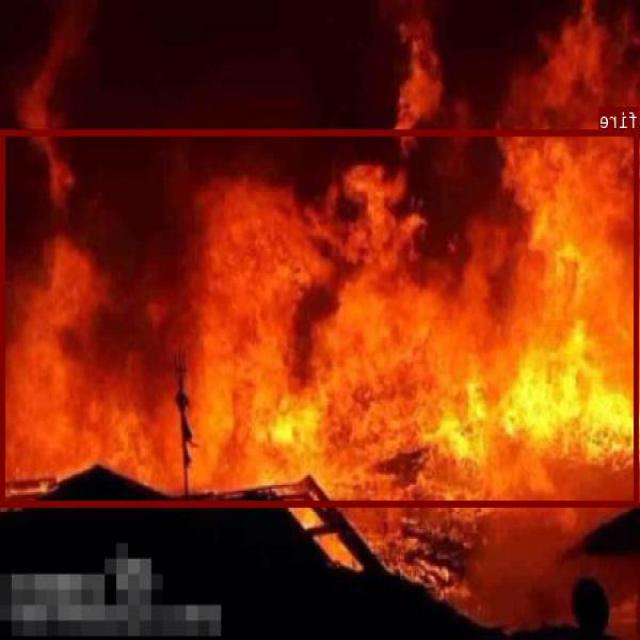fire: (2, 128, 640, 505)
